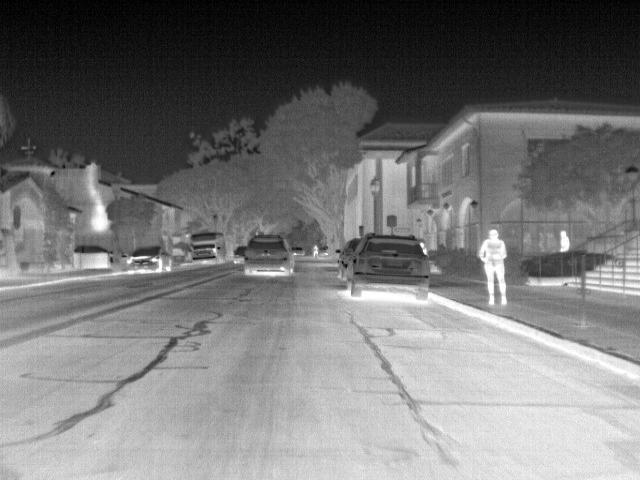car: (344, 232, 430, 302), (240, 233, 296, 281), (125, 246, 173, 274), (335, 238, 363, 280), (190, 231, 223, 266), (230, 245, 249, 264), (74, 244, 110, 253), (289, 245, 305, 256)
person: (477, 227, 510, 306), (556, 227, 571, 253)
